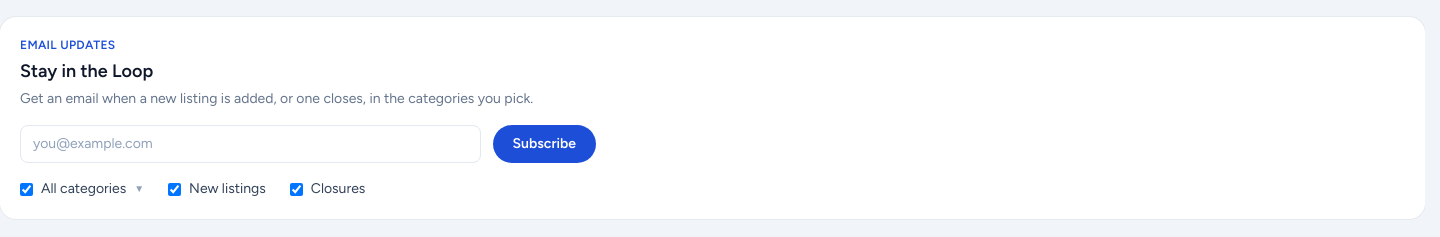
it: SubscribeSection › submits categories: null when "All categories" stays checked
Type "person@example.com" into the field named "Email address" at (250, 144), box 20,125 -> 480,163
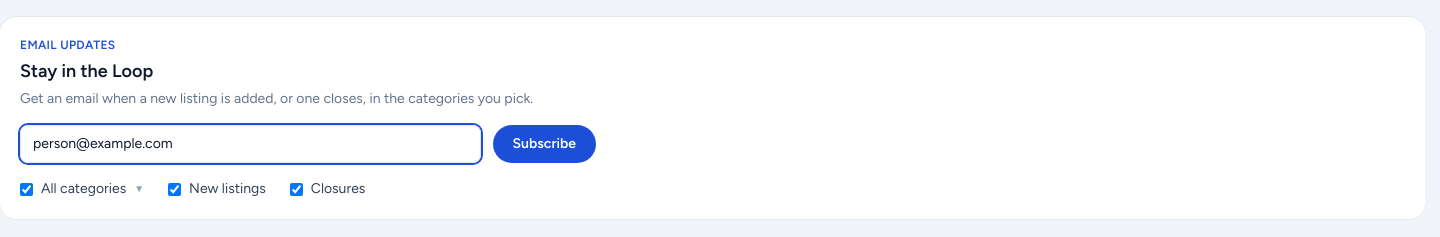
Click the button "Subscribe" at (544, 144), box 492,125 -> 596,163
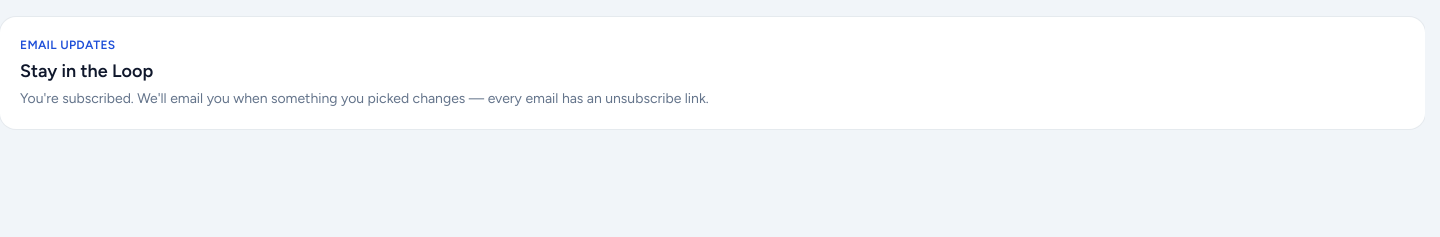
Expected: the text "You're subscribed" is shown, 20,90 -> 709,107
